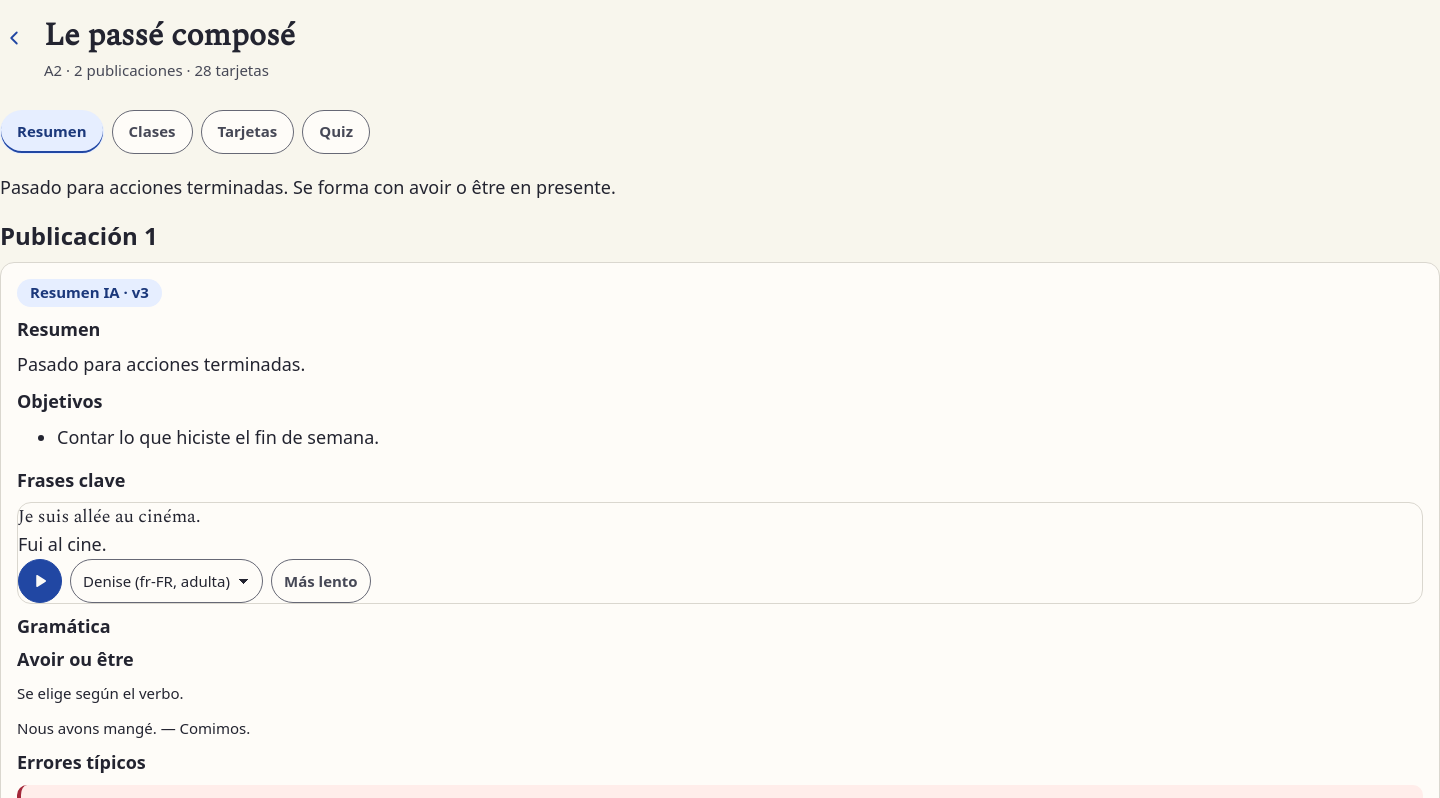
Scenario: detalle: pestañas, clases por id y quiz con mejor nota
Check: the heading "Le passé composé" is shown, box left=44, top=11, right=295, bottom=60
Check: the text "Pasado para acciones terminadas" is shown, box left=0, top=175, right=616, bottom=199
What coordinates should you click on to do the following:
click the tab "Clases"
I would click on:
 (152, 132)
Its box is left=112, top=110, right=192, bottom=154.
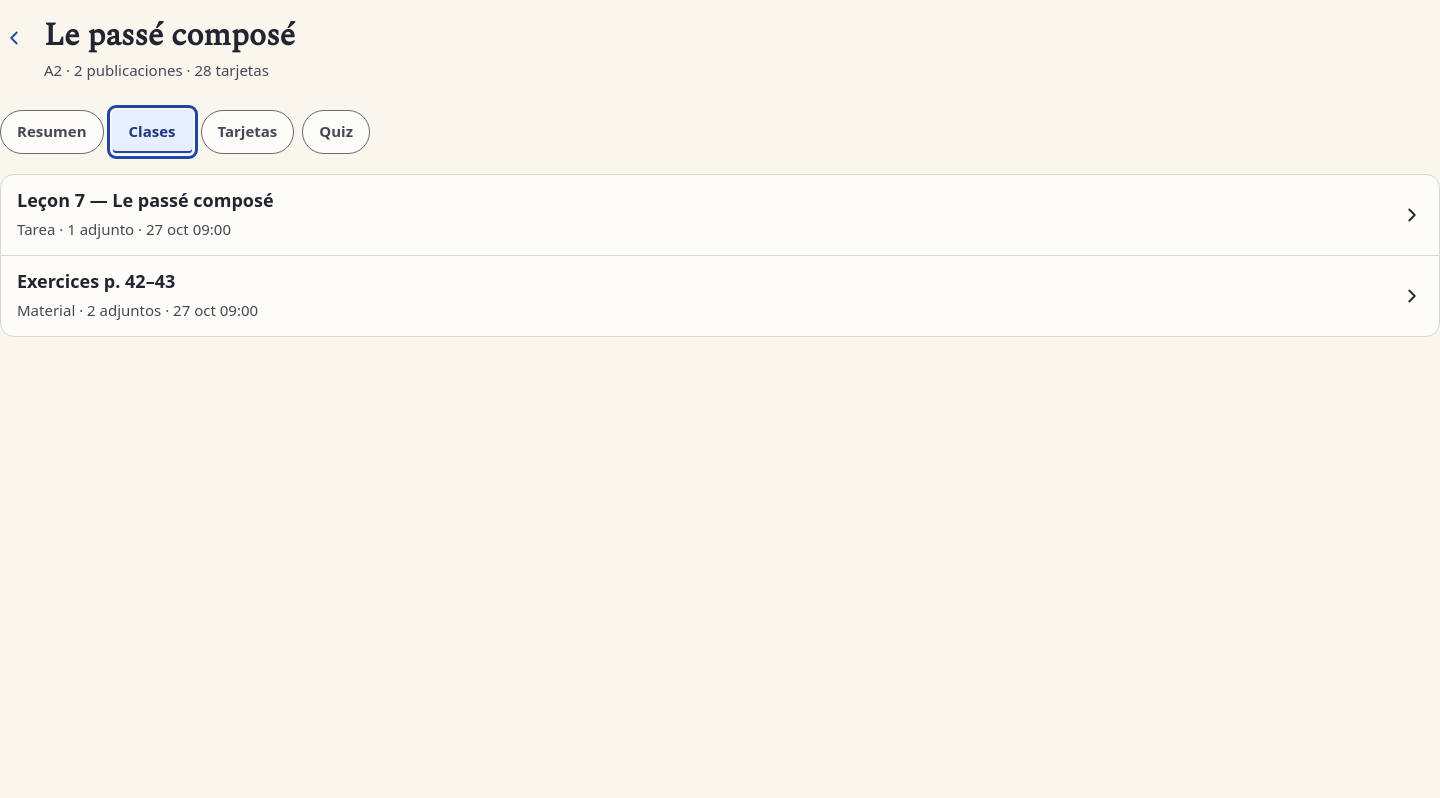
Check: the text "Tarea · 1 adjunto · 27 oct 09:00" is shown, box left=17, top=219, right=231, bottom=239
What coordinates should you click on to do the following:
click the tab "Quiz"
I would click on:
 (336, 132)
Its box is left=302, top=110, right=370, bottom=154.
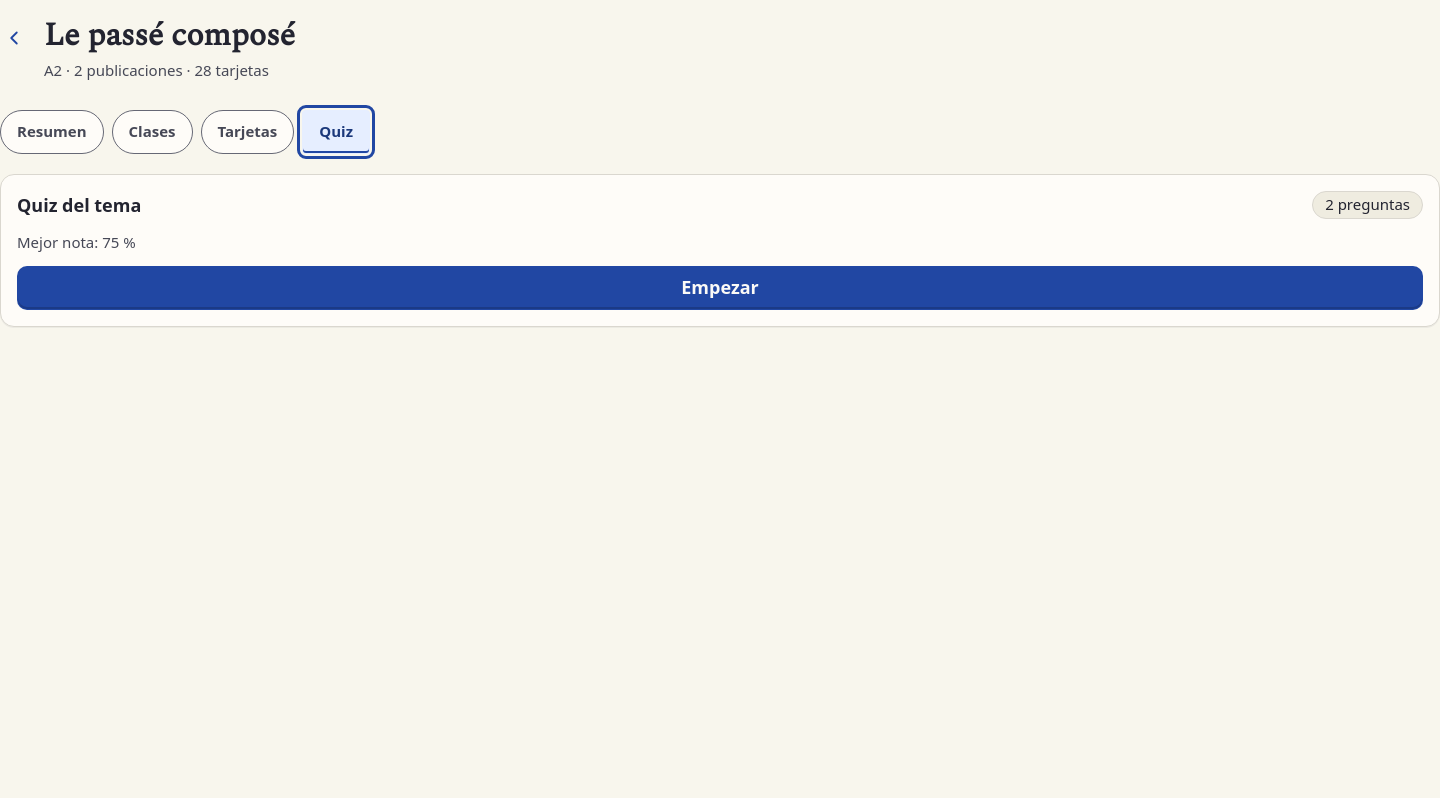
Check: the heading "Quiz del tema" is shown, box left=17, top=195, right=141, bottom=215
Check: the text "2 preguntas" is shown, box left=1312, top=191, right=1423, bottom=219
Check: the text "Mejor nota: 75 %" is shown, box left=17, top=232, right=136, bottom=252
